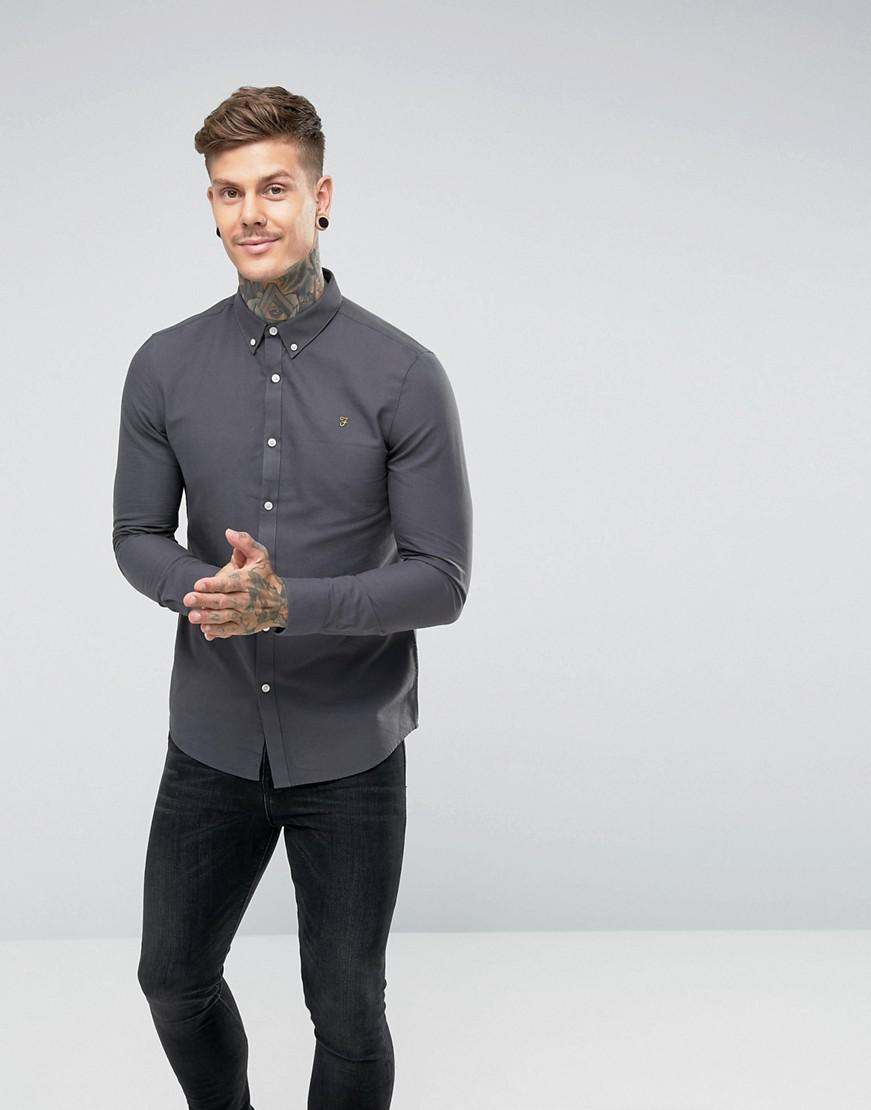teeshirt: (95, 268, 479, 795)
